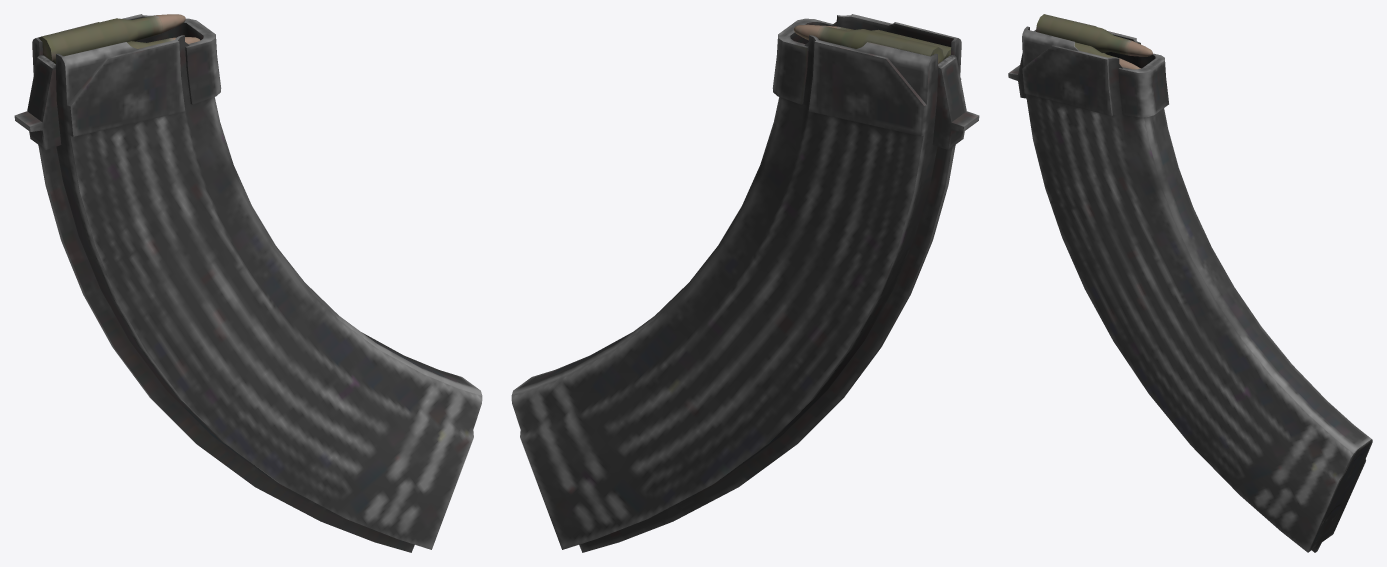
The model's file is ST_MAG_EX_AKM.FBX.
The picture shows the model from 3 angles, left to right: view 1: azimuth 30°, elevation 25°; view 2: azimuth 150°, elevation 25°; view 3: azimuth 330°, elevation 25°; orthographic projection. The views are drawn at different scales.
Visible parts, largest first — view 1: ST_MAG_EX_AKM; view 2: ST_MAG_EX_AKM; view 3: ST_MAG_EX_AKM.
Part boxes in pixels (<box>): ST_MAG_EX_AKM: <box>14,14,482,552</box>; ST_MAG_EX_AKM: <box>511,14,979,552</box>; ST_MAG_EX_AKM: <box>1008,14,1372,552</box>.
Bounding box in the file's own units: 17.66 × 22.38 × 2.57.
Materials: 1 (1 with a texture image).
